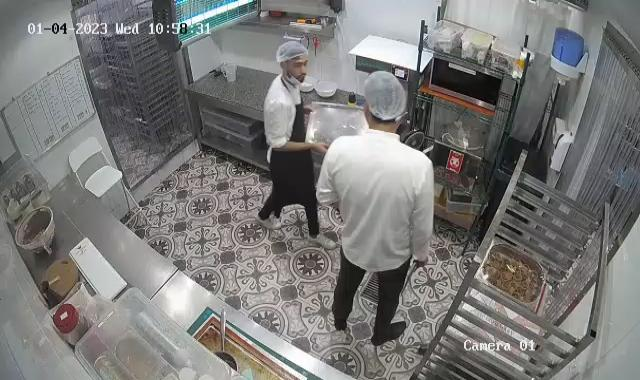hairnet: (365, 71, 405, 125), (276, 41, 310, 70)
